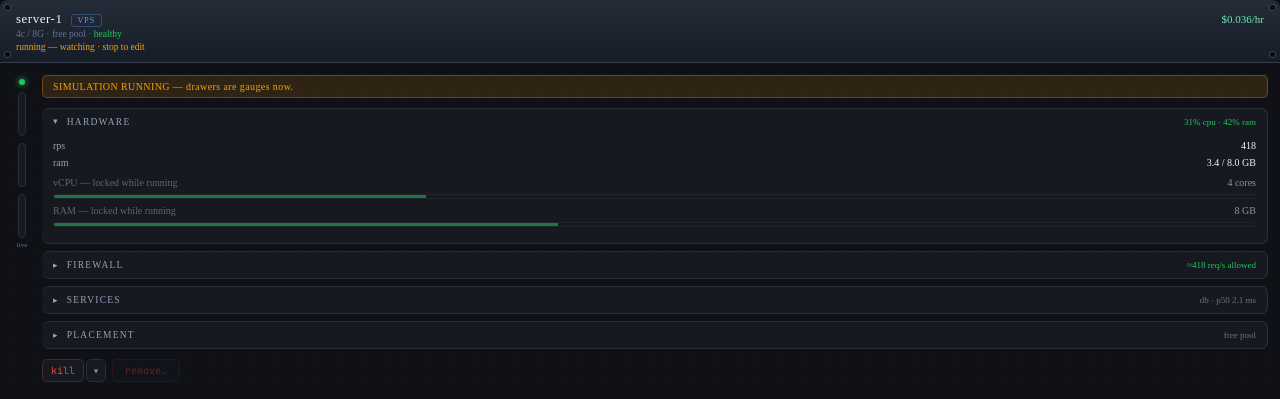
Test: ServerFaceplate — watching mode (T5, spec D7) › re-voices HARDWARE/FIREWALL/SERVICES pv readouts and the drawer bodies while running
This screenshot has width=1280, height=399.
expect the element with test id "drawer-pv" reads "31% cpu · 42% ram": met, box [1184,117,1256,127]
expect the element with test id "drawer-pv" reads "≈418 req/s allowed": met, box [1187,260,1256,270]
What coordinates should you click on to do the following:
click the button with test id "drawer-header" showing "▸ SERVICES db · p50 2.1 ms"
I would click on:
 (94, 300)
Its box is [53,294,1256,305].
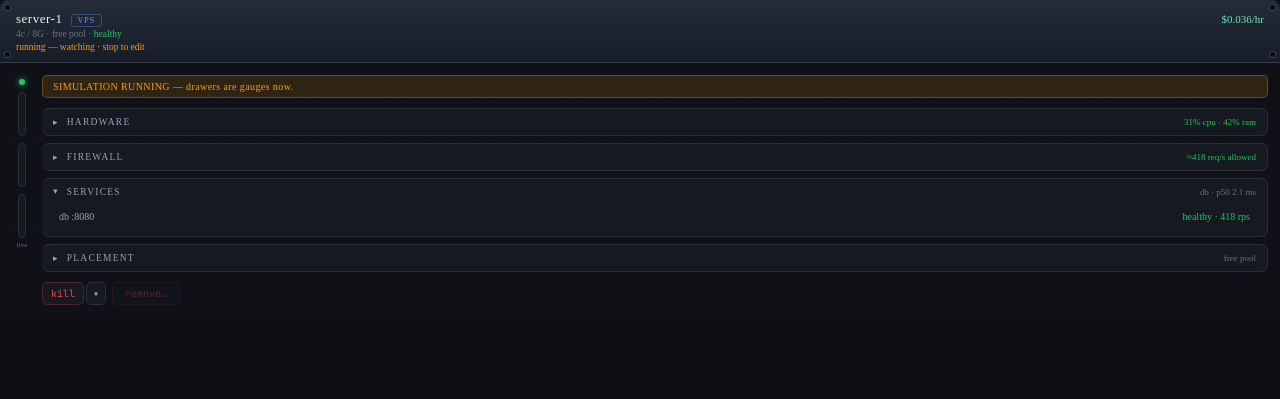
expect the element with test id "service-live-row" shows "healthy · 418 rps": met, box [59,211,1250,222]
